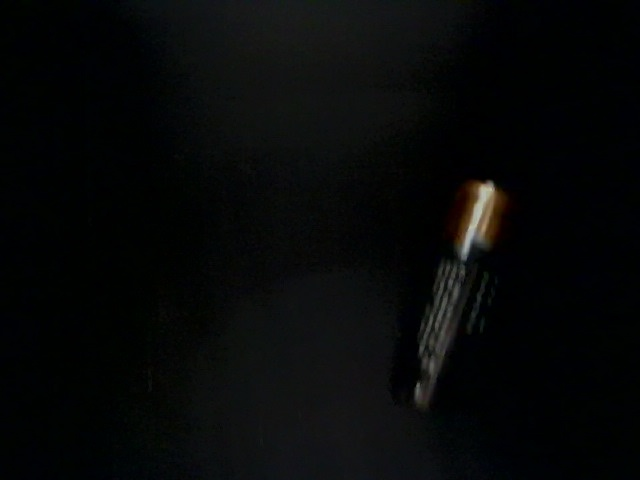QTLJ: (34, 117, 221, 333)
